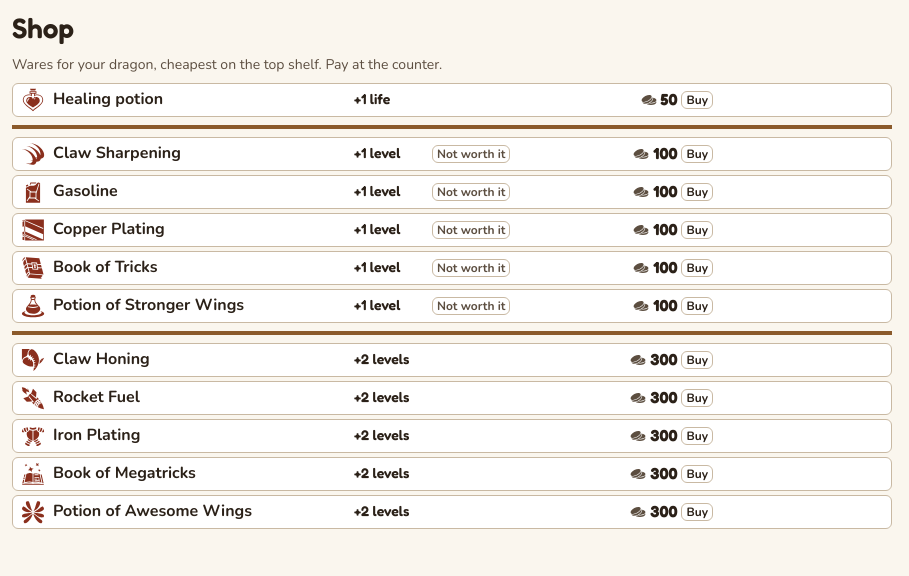
ShopPanel › a failed buy: the count is unchanged and the row says so
Click the button "Rocket Fuel +2 levels 300 Buy" at point(367, 398), box [13,382,721,414]
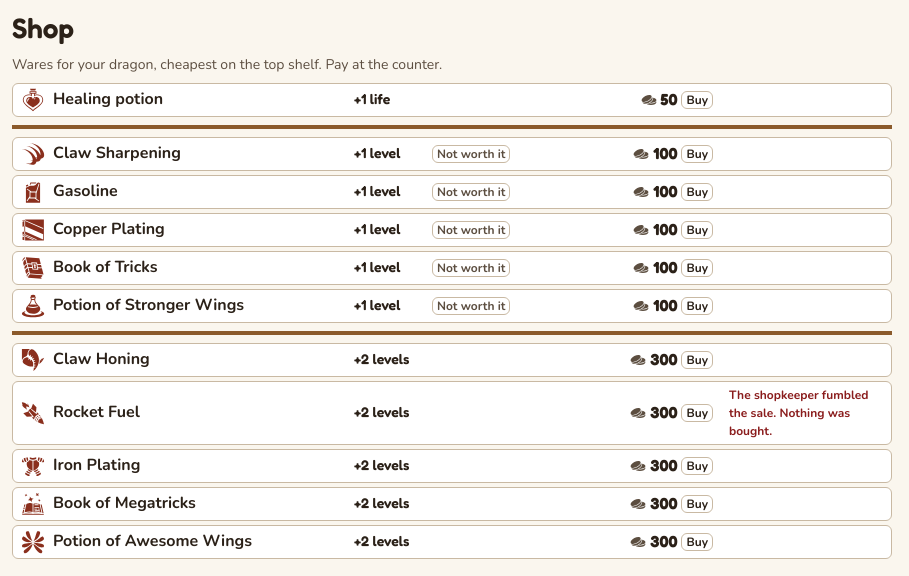
Now the text "The shopkeeper fumbled the sale. Nothing was bought." is shown, box [729,386,883,440]
